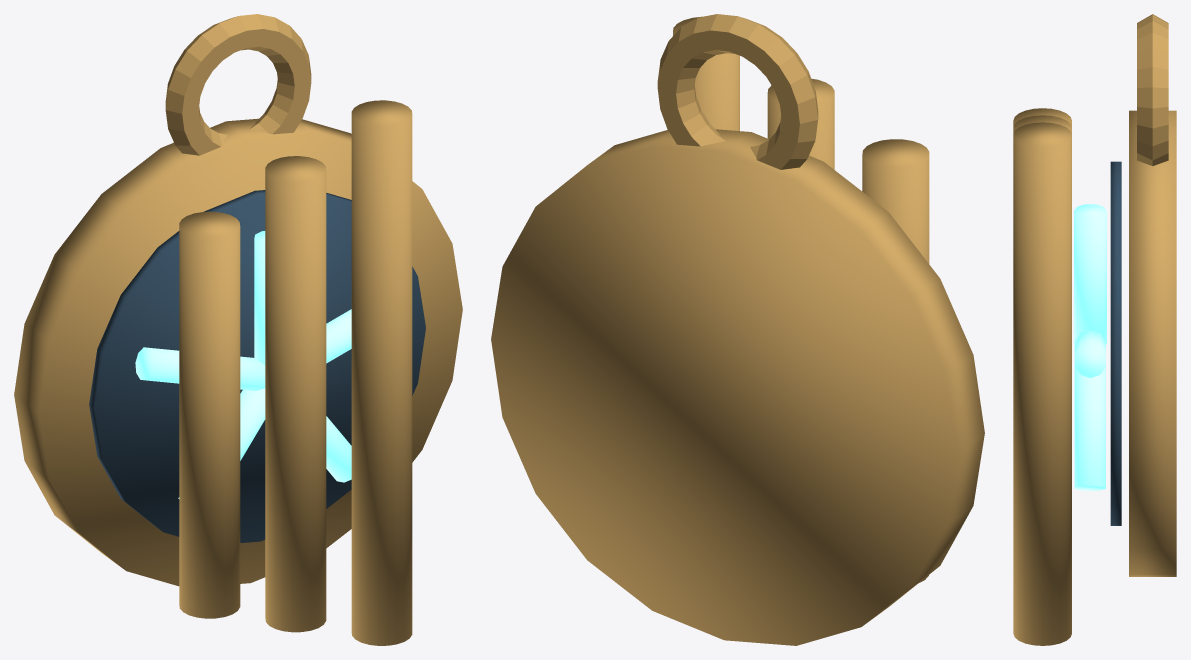
File: relic-salvageChoir.glb
3 views of the same model, side by side, from view 1: azimuth 30°, elevation 25°; view 2: azimuth 150°, elevation 25°; view 3: azimuth 270°, elevation 25° (orthographic). The views are drawn at different scales.
Parts seen in each view (by area): view 1: relic-salvageChoir / Brass | machined champagne, relic-salvageChoir / Paint | Prussian blue, relic-salvageChoir / Glass | luminous mint; view 2: relic-salvageChoir / Brass | machined champagne; view 3: relic-salvageChoir / Brass | machined champagne, relic-salvageChoir / Glass | luminous mint, relic-salvageChoir / Paint | Prussian blue.
Boxes of the visible parts, box(x1,y1,x2,y2) form: relic-salvageChoir / Brass | machined champagne: box(14, 14, 462, 645); relic-salvageChoir / Paint | Prussian blue: box(89, 190, 425, 542); relic-salvageChoir / Glass | luminous mint: box(135, 231, 351, 498); relic-salvageChoir / Brass | machined champagne: box(491, 14, 984, 645); relic-salvageChoir / Brass | machined champagne: box(1013, 14, 1176, 645); relic-salvageChoir / Glass | luminous mint: box(1074, 204, 1106, 490); relic-salvageChoir / Paint | Prussian blue: box(1110, 161, 1121, 525).
Size of the model in its own units: 1.28 by 1.72 by 0.445.
